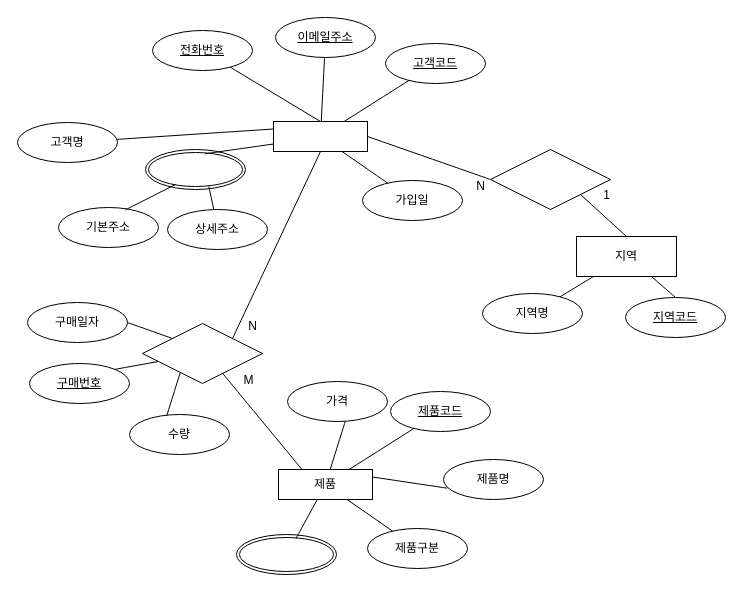
Some shapes in this 743 by 592 pixel diagram are drawn without their labels. The shapes that lost their labels are listed below. From the top down, each one's box as (x1, y1, x2, y2) in pixels, then its label:
(272, 120, 368, 152): 고객
(144, 148, 246, 190): 주소
(490, 148, 610, 210): 관리
(142, 322, 262, 384): 구매
(236, 534, 336, 574): 제품색상
